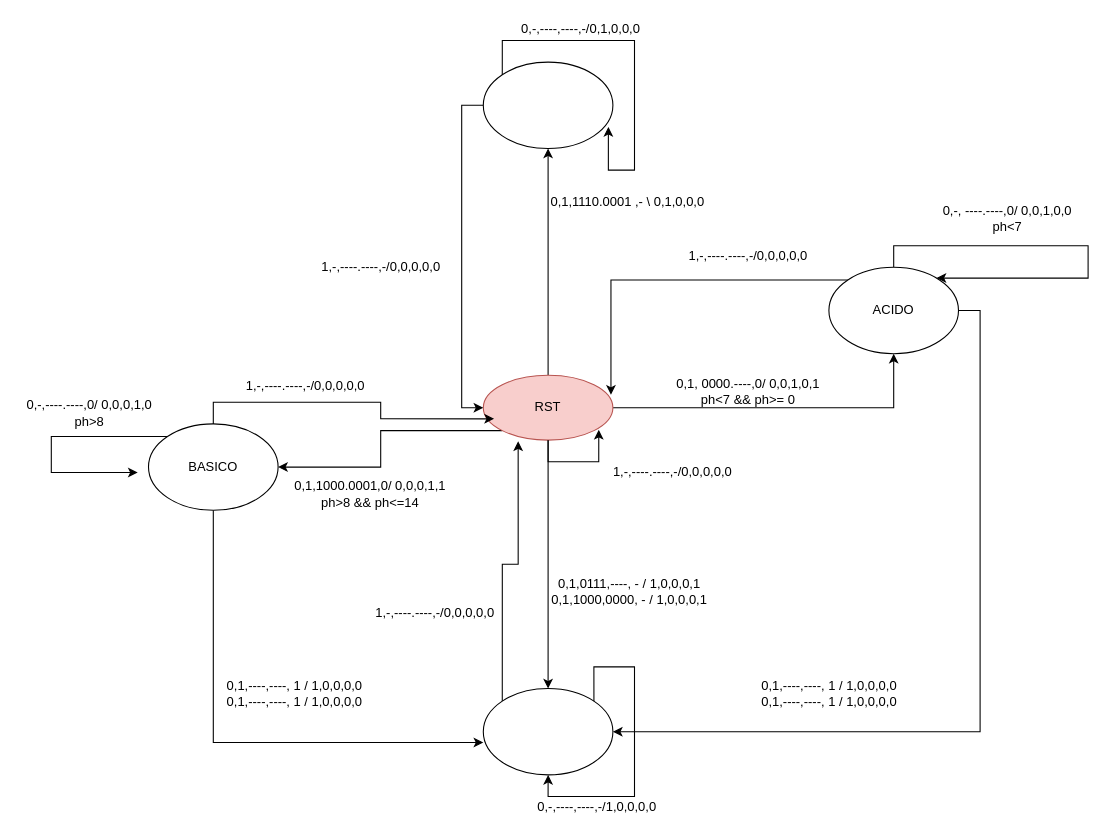
Some shapes in this 1116 by 836 pixel diagram are drawn without their labels. Here are the shapes that lost their labels. From the top down, the centre of each, then its label:
At [547,104]: "ERRORE".
At [547,731]: "NEUTRO".
